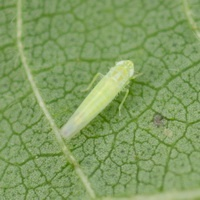insect: (61, 60, 133, 138)
